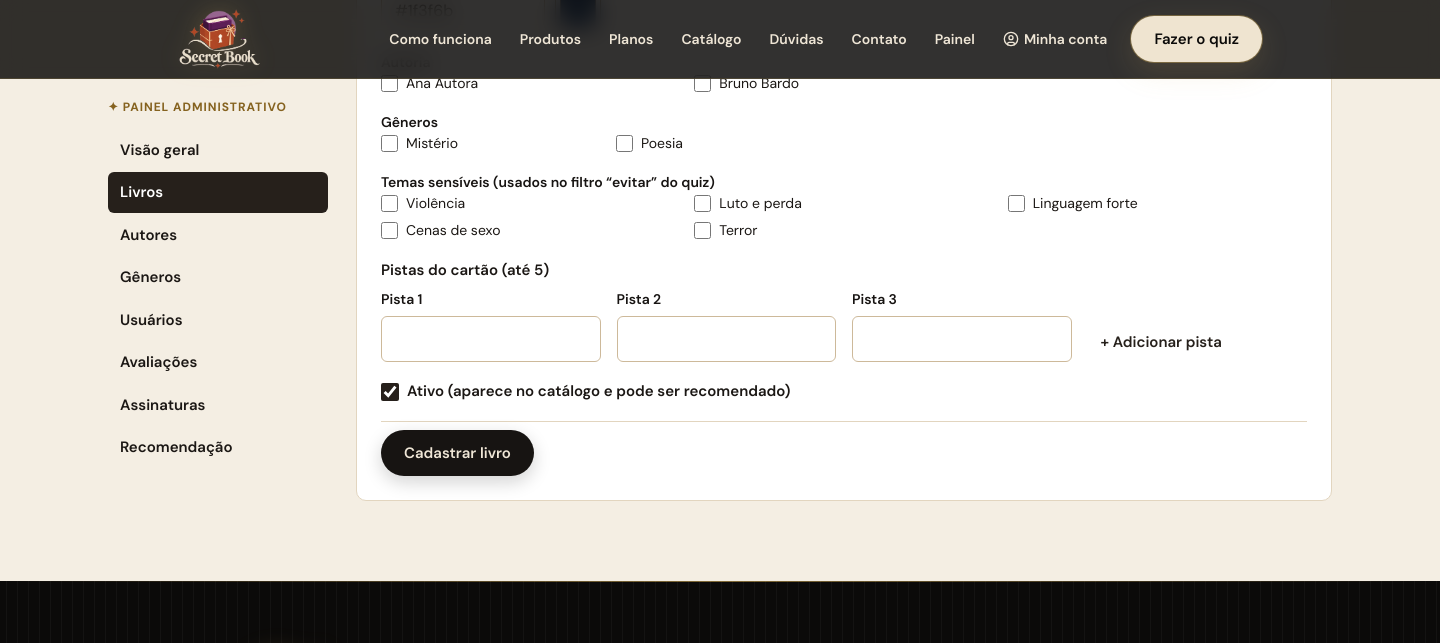
Test case: Painel: livros › destaca os campos recusados pela API
(page scrolled)
Click the button "Cadastrar livro". click: (457, 453)
box: x1=381 y1=430 x2=534 y2=476
(page scrolled)
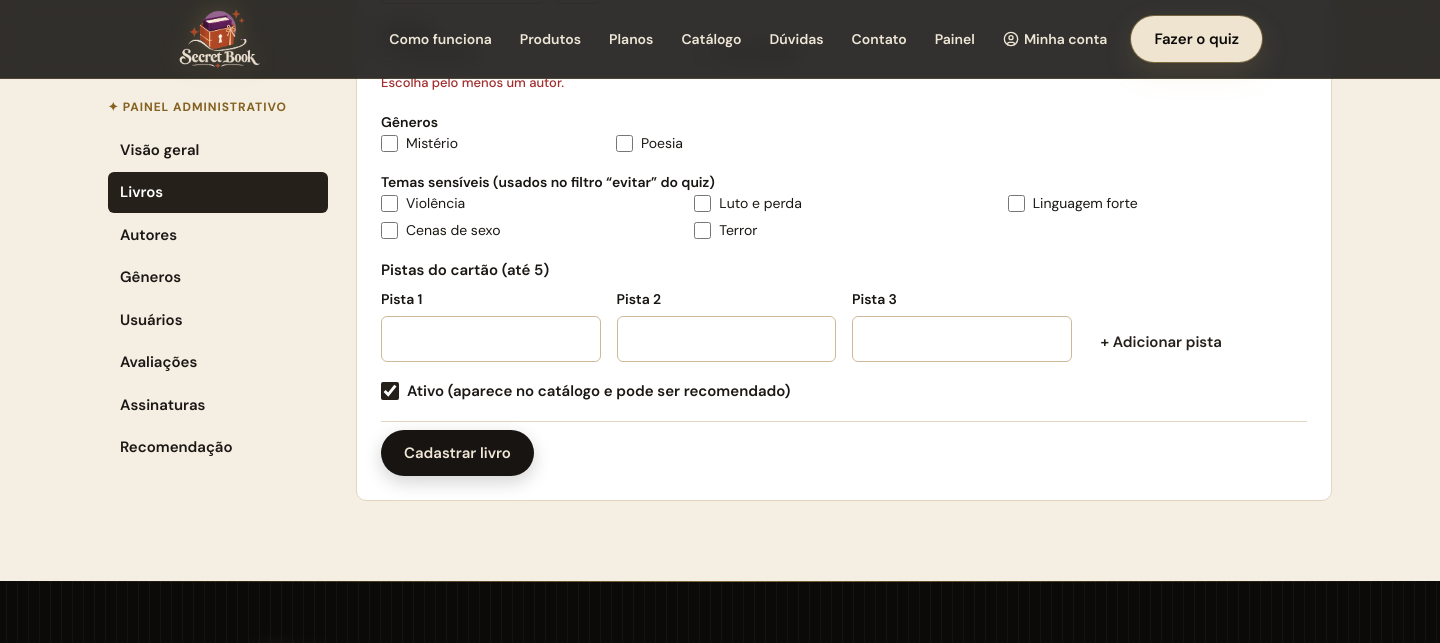
expect the text "Escolha pelo menos um autor." is shown: met, box x1=381 y1=74 x2=564 y2=91
